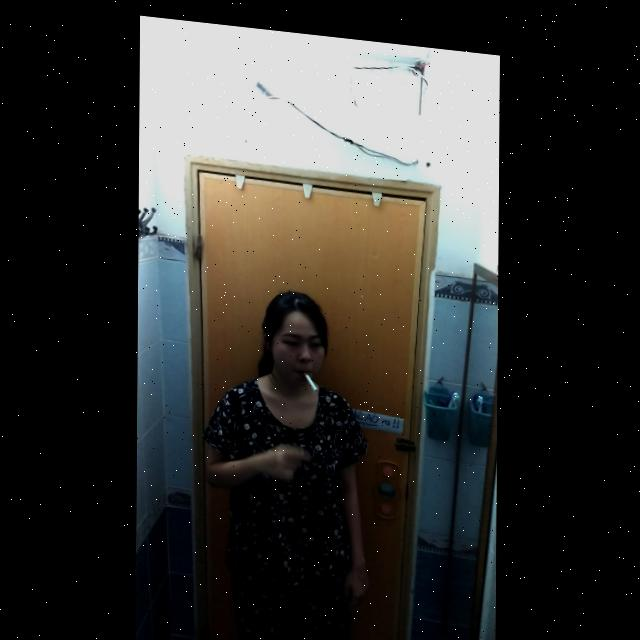cigarette: (304, 366, 318, 385)
